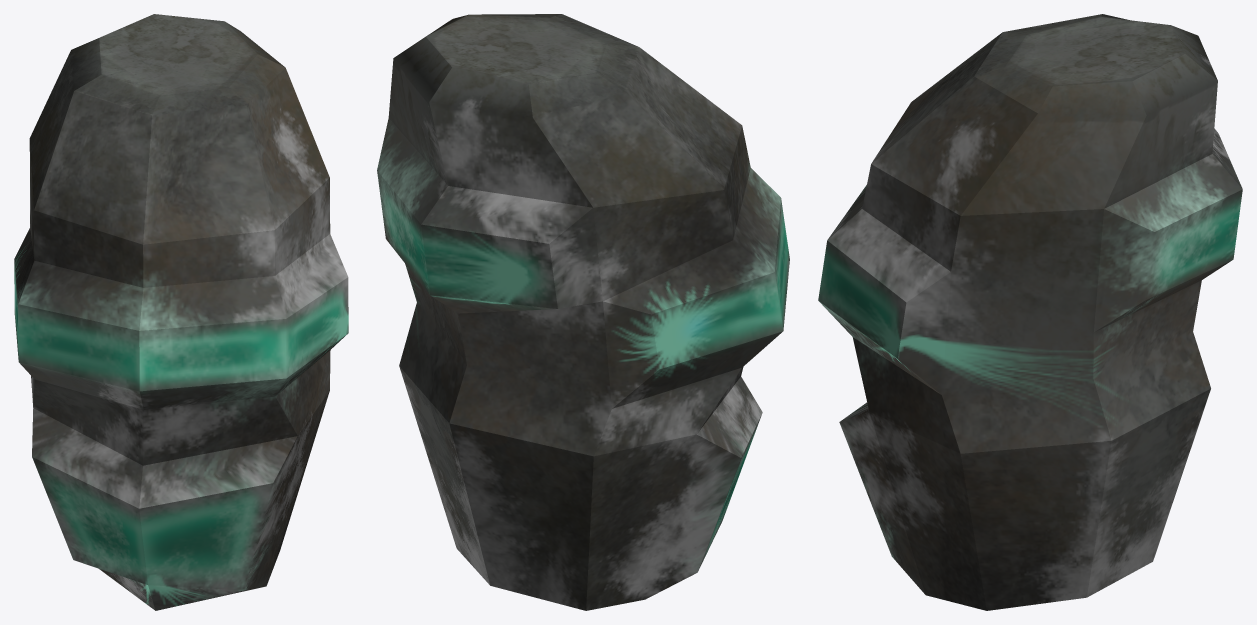
Rendered from 4. Elixir.fbx.
The picture shows the model from 3 angles, left to right: view 1: azimuth 30°, elevation 25°; view 2: azimuth 150°, elevation 25°; view 3: azimuth 270°, elevation 25°; orthographic projection. The views are drawn at different scales.
Visible parts, largest first — view 1: pCylinder7; view 2: pCylinder7; view 3: pCylinder7.
Boxes of the visible parts, x1,y1,x2,y2 form: pCylinder7: (14,14,348,610); pCylinder7: (377,14,789,610); pCylinder7: (818,14,1242,610).
Bounding box in the file's own units: 0.9443 × 1.46 × 1.01.
1 material, 1 textured.
